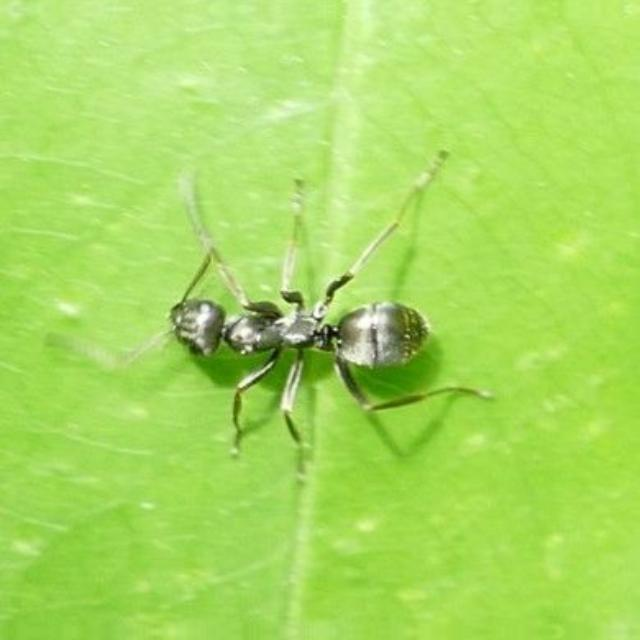Formica: (108, 228, 476, 420)
